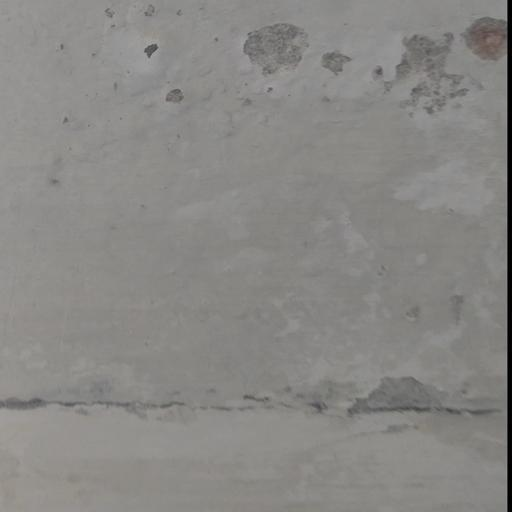peeling: (4, 338, 512, 453), (208, 10, 512, 131)
